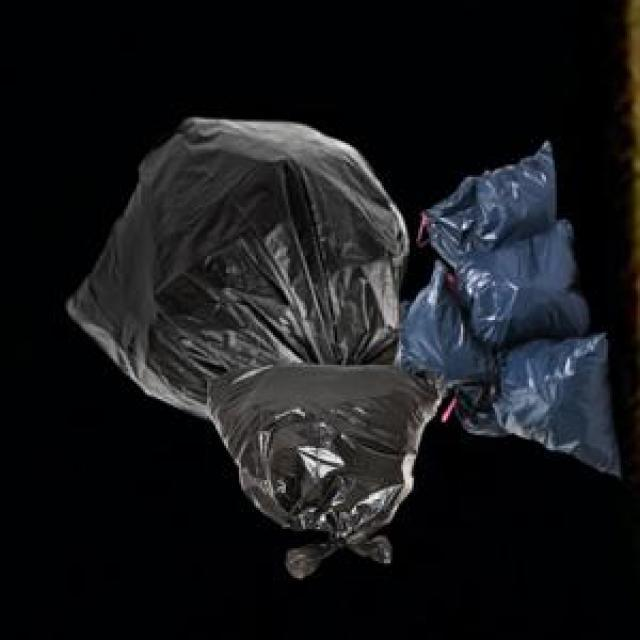Vinyl: (69, 118, 619, 578)
